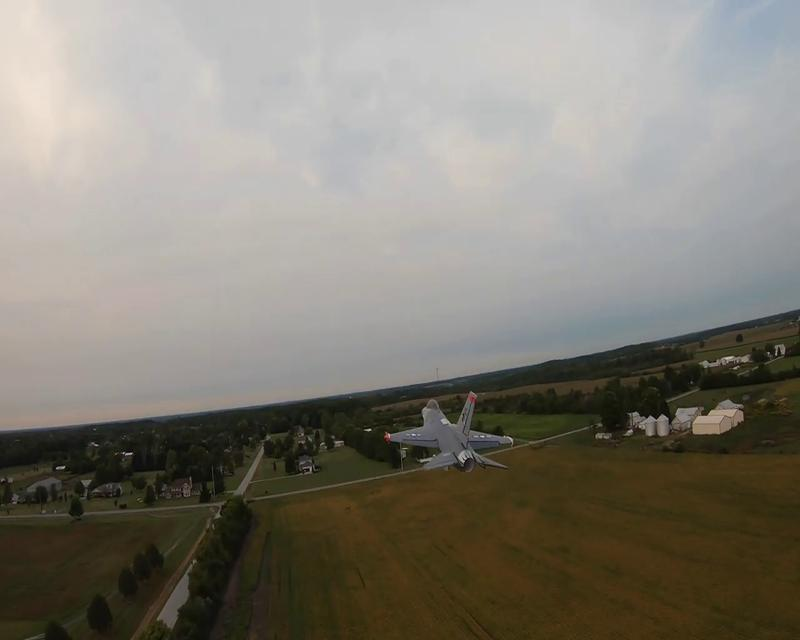UAV: (382, 390, 514, 473)
